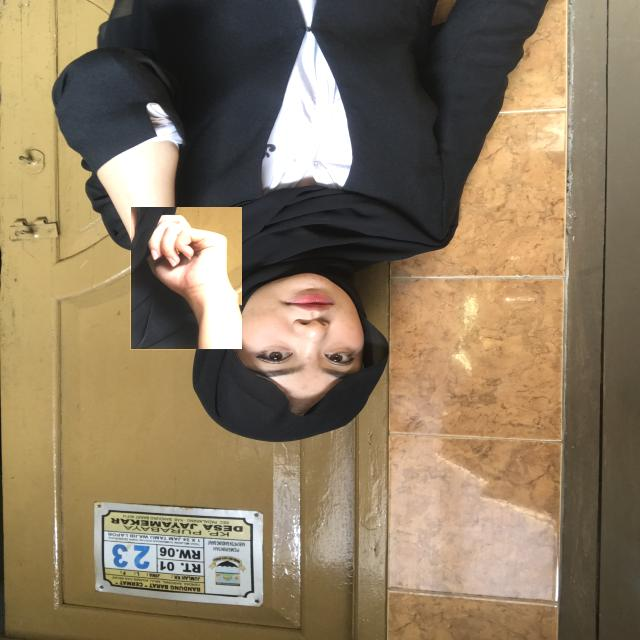ibu: (130, 207, 242, 350)
